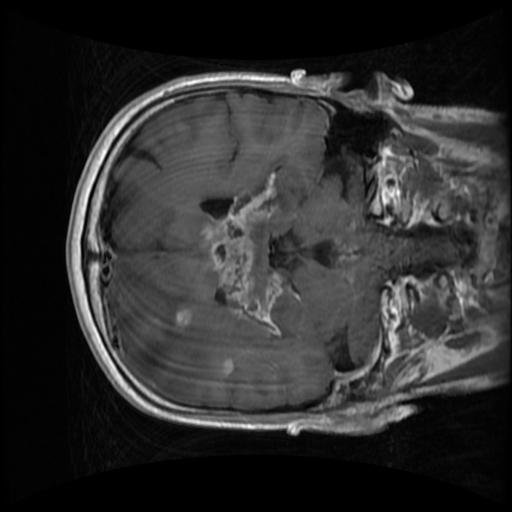glioma: (199, 172, 284, 338)
